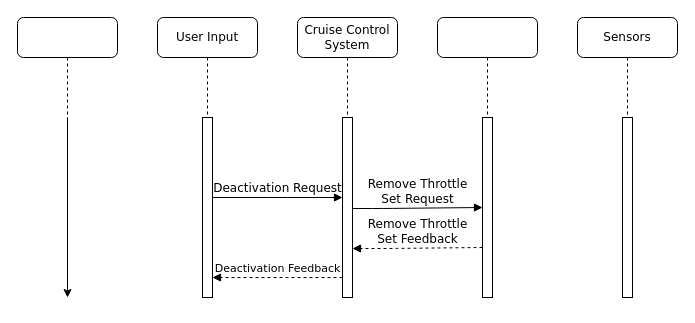
The diagram is 695 pixels wide and 323 high, and some of its shapes have lost their labels. The shapes that lost their labels are listed below. From the top down, each one's box as (x1, y1, x2, y2) in pixels, then its label:
(16, 16, 118, 278): Time
(436, 16, 538, 298): Throttle
